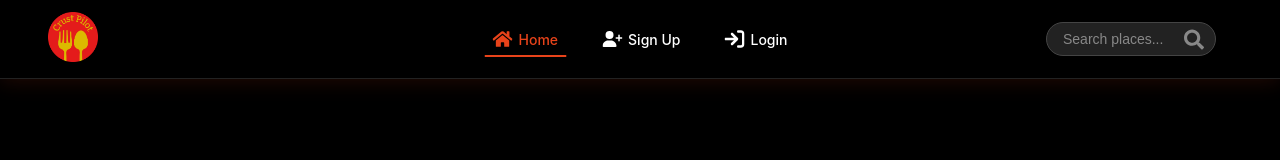
Test: Navbar › hides search results when input is cleared
Type "Sushi" into the field with placeholder "Search places...".
click(1131, 39); type("Sushi")  # box [1046,22,1216,56]
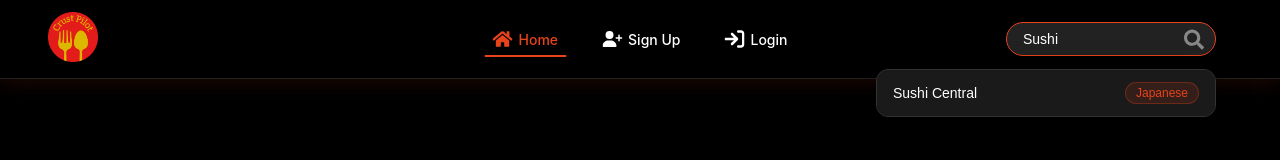
Check: the text "Sushi Central" is shown, box [893,85,977,101]
Clear the field with placeholder "Search places..." at (1111, 39), box [1006,22,1216,56]
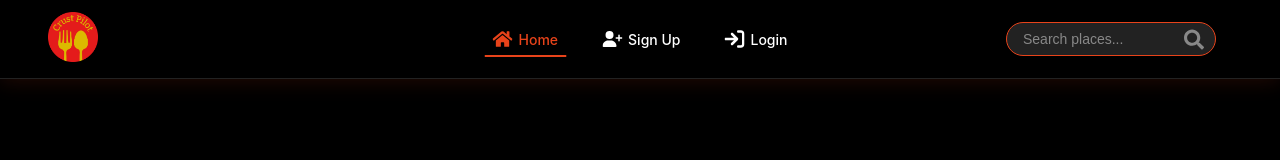
Check: the button "Sushi Central" is gone
